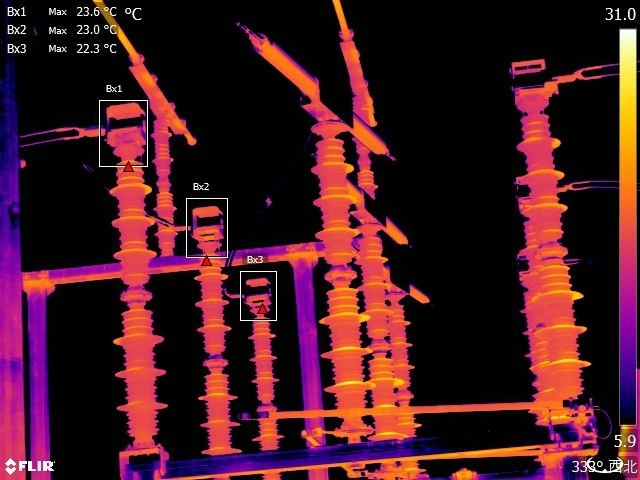post insulator: (519, 109, 594, 393), (317, 128, 378, 416), (111, 159, 172, 430), (357, 238, 400, 440), (199, 255, 237, 447), (522, 215, 556, 404), (250, 312, 282, 450), (390, 303, 418, 441), (152, 112, 178, 247)
switch: (229, 20, 400, 155), (349, 181, 410, 248), (383, 264, 436, 308)
